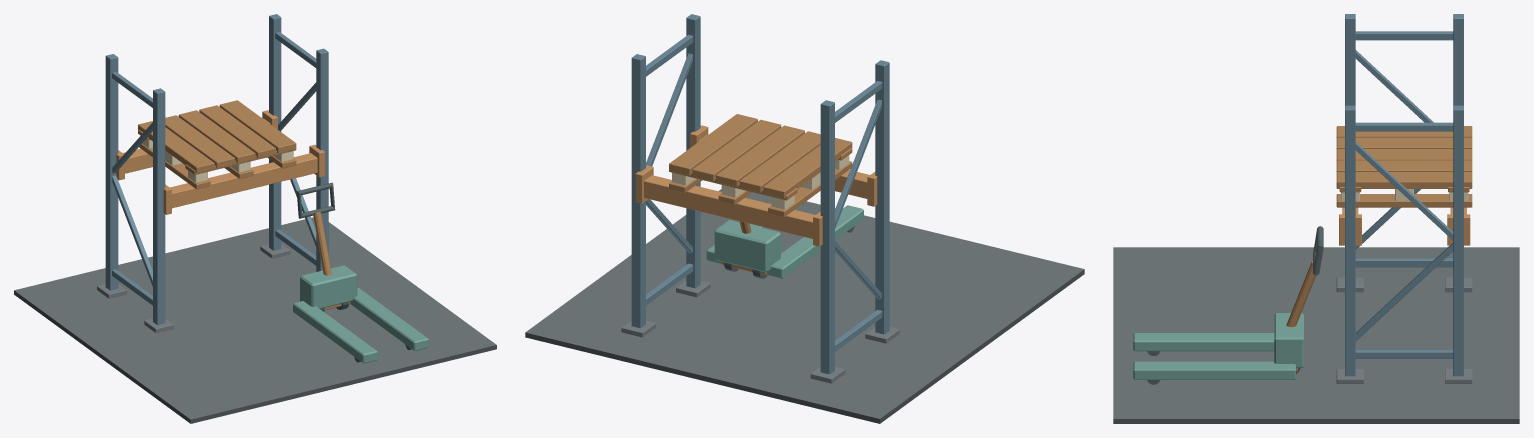
3 renders of one model, left to right at view 1: azimuth 30°, elevation 25°; view 2: azimuth 150°, elevation 25°; view 3: azimuth 270°, elevation 25°, orthographic. The views are drawn at different scales.
Visible parts, largest first — view 1: SCENE_ONLY__PutawayFloor, pallet__logistics-wood-pallet-01, jack__logistics-pallet-jack-01, rack__Upright post.001, rack__Upright post, rack__Pallet bearing beam, rack__Upright post.003, rack__Upright post.002, rack__Lower side diagonal, rack__Pallet bearing beam.001; view 2: SCENE_ONLY__PutawayFloor, pallet__logistics-wood-pallet-01, jack__logistics-pallet-jack-01, rack__Upright post.001, rack__Upright post.003, rack__Upright post, rack__Pallet bearing beam.001, rack__Upright post.002, rack__Upper side diagonal, rack__Upper side diagonal.001, rack__Pallet bearing beam, rack__Side frame horizontal tie.001 (+4 smaller); view 3: SCENE_ONLY__PutawayFloor, jack__logistics-pallet-jack-01, pallet__logistics-wood-pallet-01, rack__Upright post.002, rack__Upright post.003, rack__Upright post, rack__Upright post.001, rack__Side frame horizontal tie.001, rack__Side frame horizontal tie.003, rack__Lower side diagonal.001, rack__Upper side diagonal.001, rack__Side frame horizontal tie (+4 smaller).
Boxes of the visible parts, left/top/right/bottom form: SCENE_ONLY__PutawayFloor: left=14, top=217, right=496, bottom=423; pallet__logistics-wood-pallet-01: left=138, top=100, right=296, bottom=189; jack__logistics-pallet-jack-01: left=293, top=182, right=428, bottom=363; rack__Upright post.001: left=105, top=54, right=118, bottom=290; rack__Upright post: left=153, top=88, right=165, bottom=324; rack__Pallet bearing beam: left=170, top=153, right=317, bottom=208; rack__Upright post.003: left=269, top=14, right=281, bottom=250; rack__Upright post.002: left=316, top=48, right=328, bottom=271; rack__Lower side diagonal: left=112, top=175, right=152, bottom=286; rack__Pallet bearing beam.001: left=123, top=118, right=270, bottom=173; SCENE_ONLY__PutawayFloor: left=525, top=189, right=1084, bottom=423; pallet__logistics-wood-pallet-01: left=669, top=114, right=852, bottom=217; jack__logistics-pallet-jack-01: left=706, top=202, right=863, bottom=278; rack__Upright post.001: left=820, top=100, right=834, bottom=374; rack__Upright post.003: left=631, top=54, right=645, bottom=328; rack__Upright post: left=875, top=60, right=889, bottom=334; rack__Pallet bearing beam.001: left=644, top=175, right=814, bottom=238; rack__Upright post.002: left=686, top=14, right=700, bottom=288; rack__Upper side diagonal: left=835, top=99, right=881, bottom=228; rack__Upper side diagonal.001: left=646, top=53, right=692, bottom=166; rack__Pallet bearing beam: left=698, top=135, right=869, bottom=198; rack__Side frame horizontal tie.001: left=835, top=81, right=882, bottom=122; SCENE_ONLY__PutawayFloor: left=1113, top=247, right=1519, bottom=423; jack__logistics-pallet-jack-01: left=1133, top=226, right=1323, bottom=384; pallet__logistics-wood-pallet-01: left=1336, top=126, right=1472, bottom=207; rack__Upright post.002: left=1345, top=105, right=1355, bottom=376; rack__Upright post.003: left=1453, top=105, right=1463, bottom=376; rack__Upright post: left=1345, top=14, right=1355, bottom=105; rack__Upright post.001: left=1453, top=14, right=1463, bottom=105; rack__Side frame horizontal tie.001: left=1355, top=31, right=1453, bottom=40; rack__Side frame horizontal tie.003: left=1355, top=122, right=1453, bottom=131; rack__Lower side diagonal.001: left=1355, top=242, right=1453, bottom=341; rack__Upper side diagonal.001: left=1355, top=141, right=1453, bottom=240; rack__Side frame horizontal tie: left=1355, top=258, right=1453, bottom=267.
Bounding box in the file's own units: 3 × 2.25 × 3.
